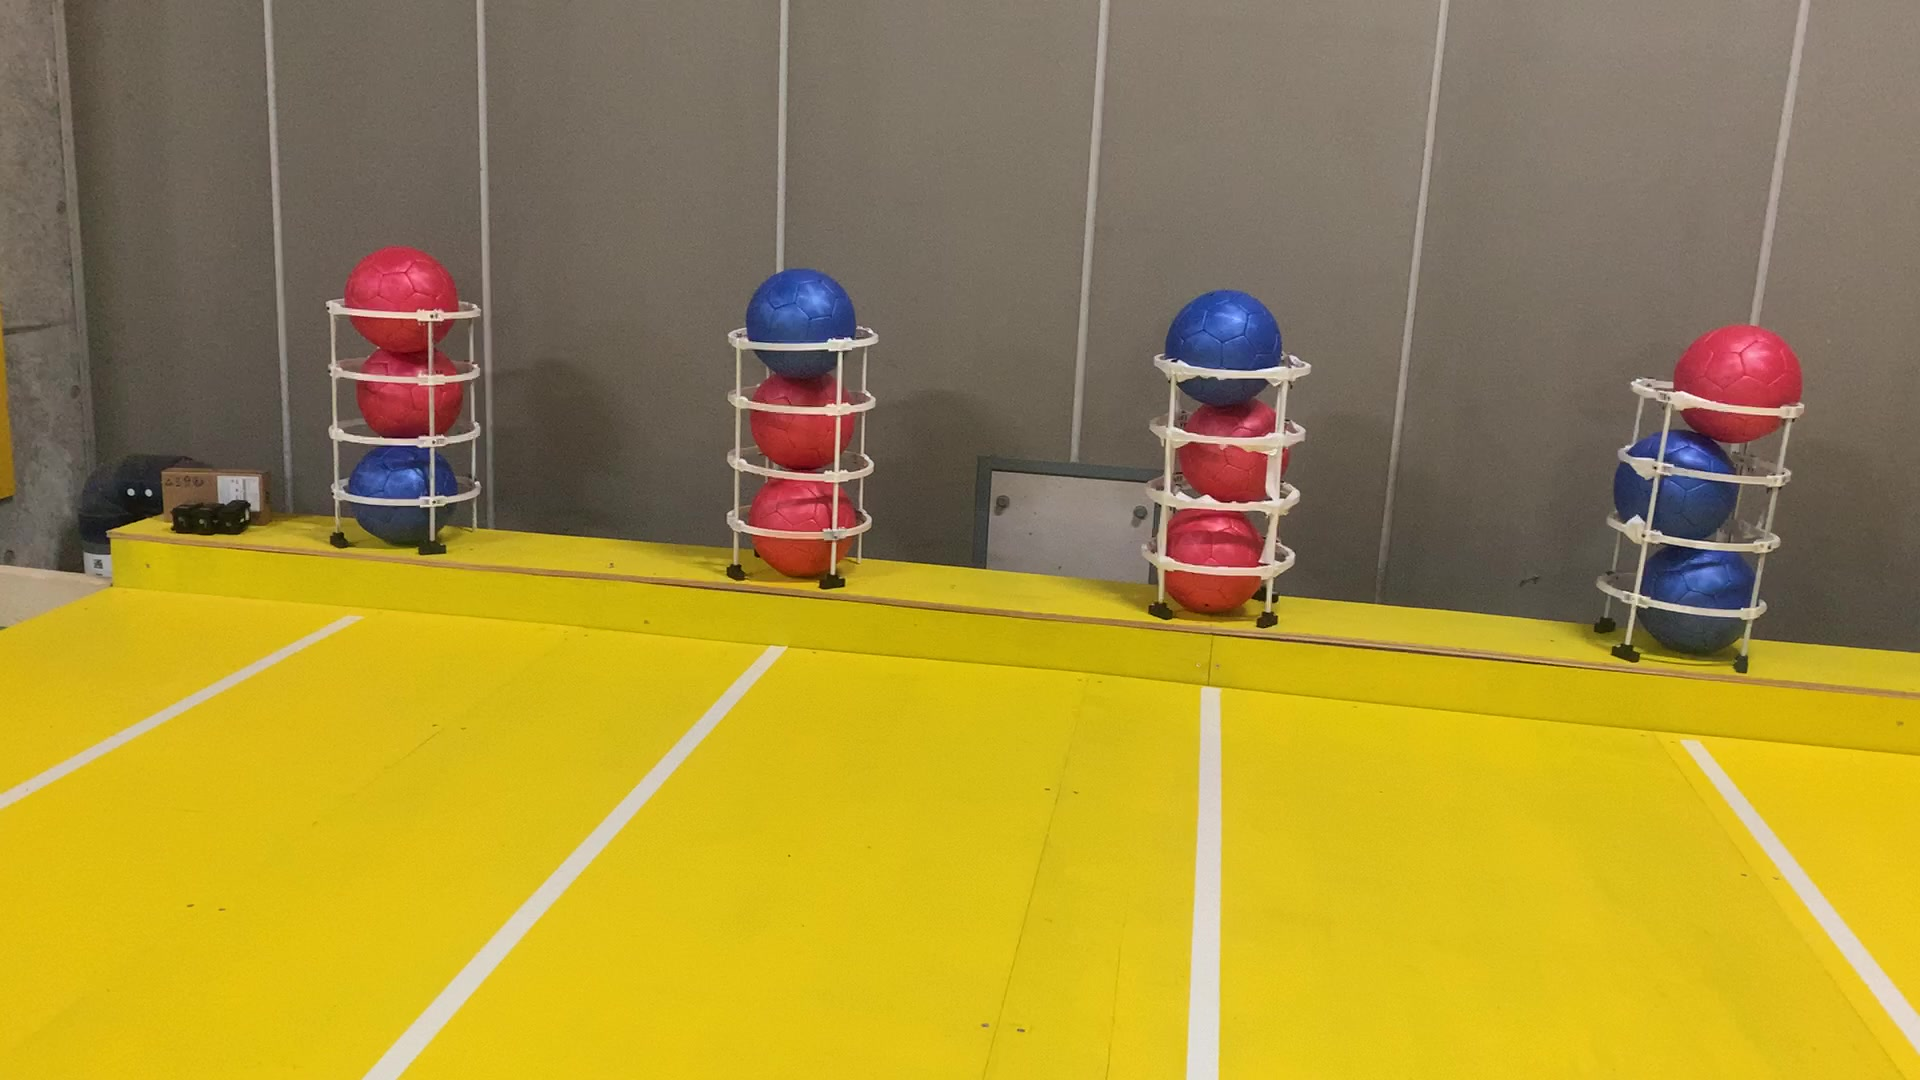blue: (1634, 527, 1763, 662), (1601, 417, 1735, 543), (1160, 282, 1283, 407), (740, 260, 862, 377), (343, 436, 464, 549)
red: (1675, 316, 1800, 452), (1179, 385, 1299, 514), (1149, 501, 1274, 617), (744, 464, 860, 587), (339, 241, 459, 352), (744, 361, 856, 471), (357, 339, 464, 446)
